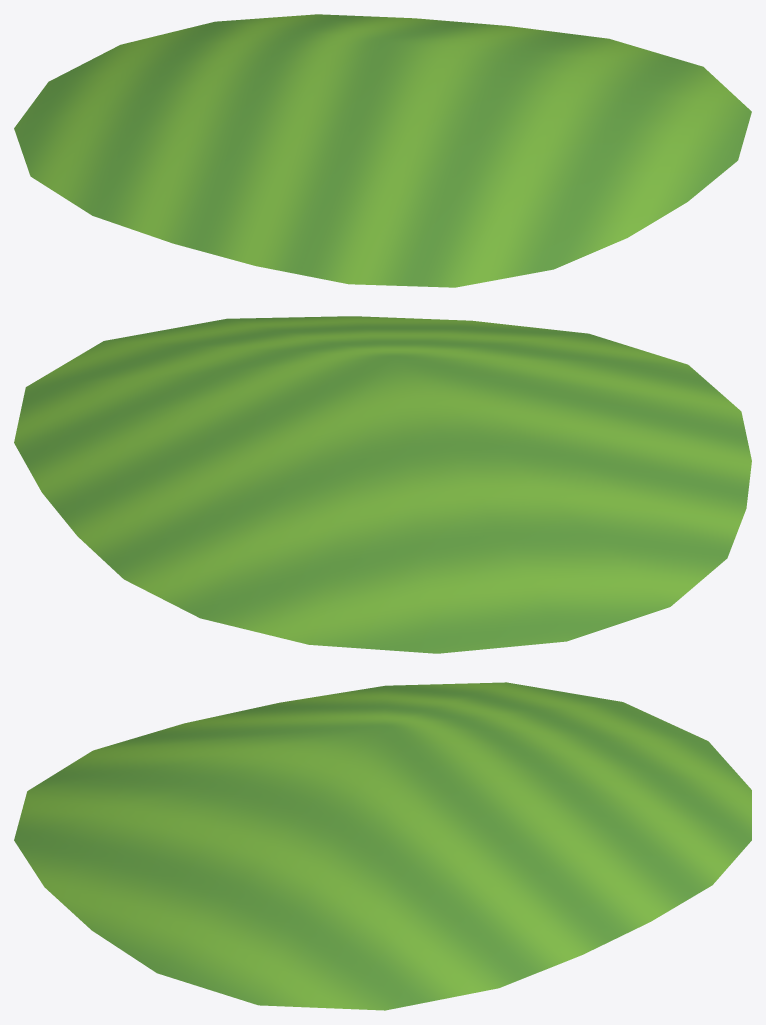
The model's file is ISL-M_LOD2_Grass.fbx.
3 views of the same model, one above another, from view 1: azimuth 30°, elevation 25°; view 2: azimuth 150°, elevation 25°; view 3: azimuth 270°, elevation 25° (orthographic). The views are drawn at different scales.
Visible parts, largest first — view 1: ISL-M_LOD2_Grass; view 2: ISL-M_LOD2_Grass; view 3: ISL-M_LOD2_Grass.
Boxes of the visible parts, x1=… form: ISL-M_LOD2_Grass: x1=14, y1=14, x2=751, y2=287; ISL-M_LOD2_Grass: x1=14, y1=316, x2=751, y2=653; ISL-M_LOD2_Grass: x1=14, y1=682, x2=751, y2=1010.
Bounding box in the file's own units: 80.85 × 76.85 × 13.
